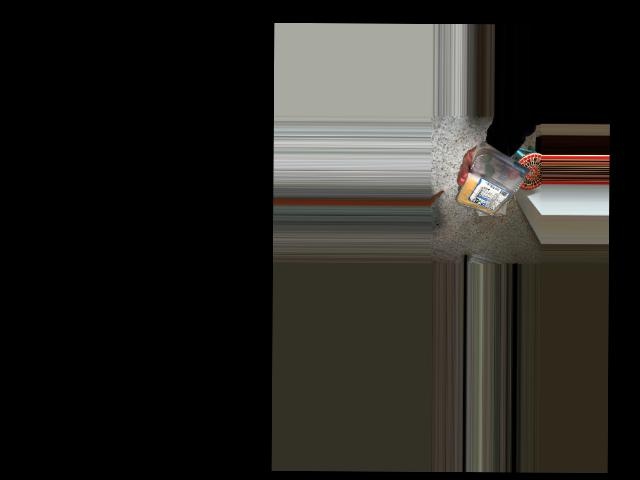cheese: (465, 146, 530, 221)
